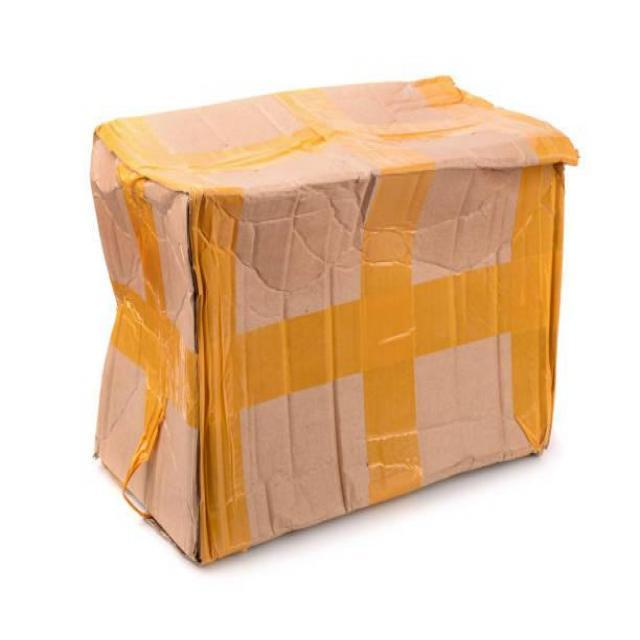box: (84, 63, 577, 566)
